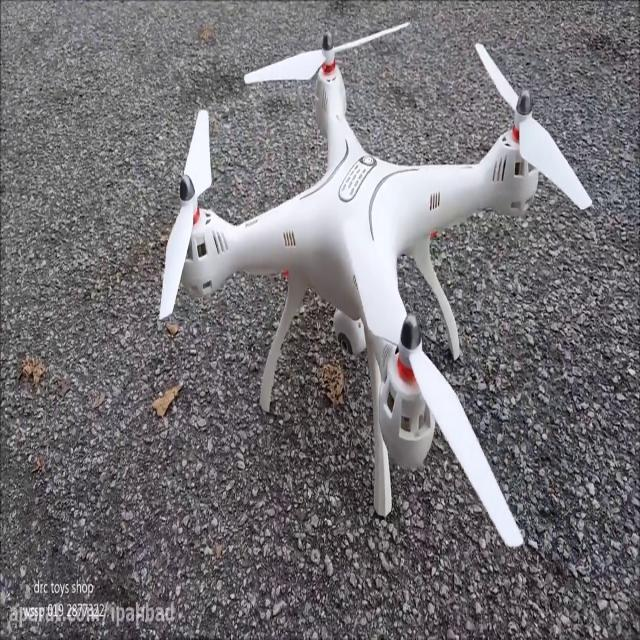drone: (155, 12, 597, 553)
